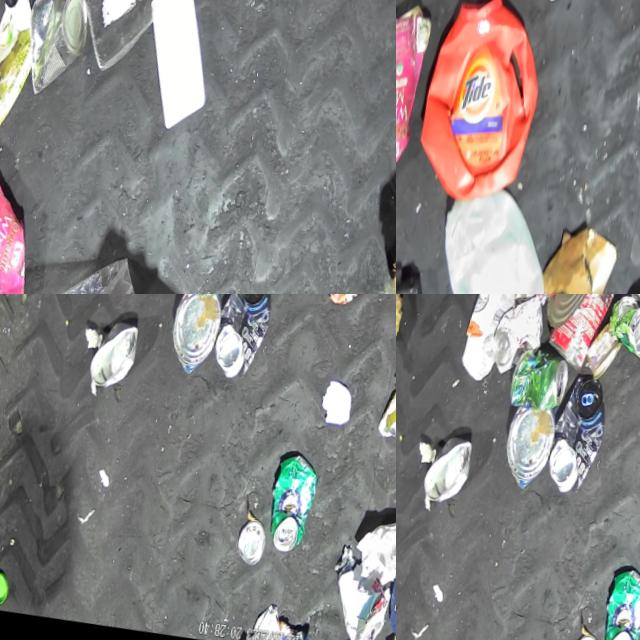can: (540, 374, 612, 500), (14, 0, 94, 105), (541, 294, 623, 377), (205, 294, 278, 385), (260, 453, 320, 559), (497, 405, 558, 495), (486, 294, 549, 381), (162, 294, 223, 379), (508, 347, 573, 417), (84, 319, 140, 397), (418, 434, 474, 512), (594, 567, 640, 640), (581, 322, 625, 385), (603, 294, 640, 367), (541, 294, 607, 334), (231, 519, 266, 568), (315, 294, 383, 312)
milk_jug: (126, 0, 226, 137), (432, 190, 559, 294)
non_white_jug: (403, 0, 554, 219)
